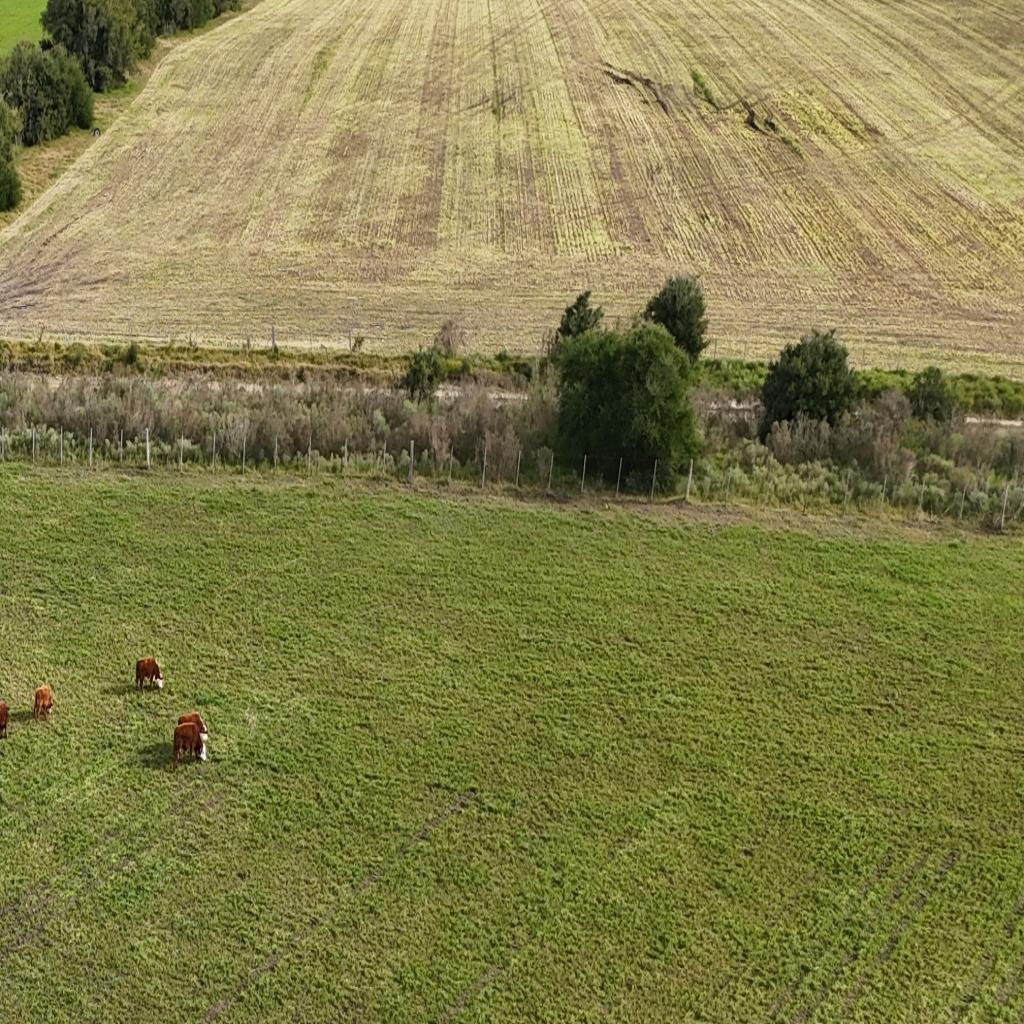cow: (173, 719, 206, 762), (135, 655, 165, 692), (173, 708, 209, 736), (34, 684, 54, 719), (0, 701, 10, 740)
